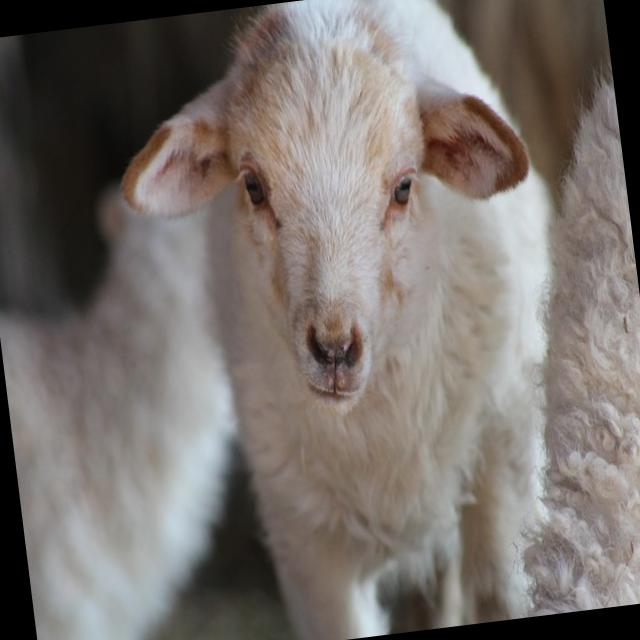sheep: (100, 0, 606, 640), (0, 167, 266, 640), (459, 60, 640, 615)
